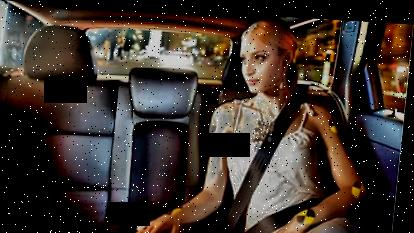seatbelt: (216, 77, 350, 233)
